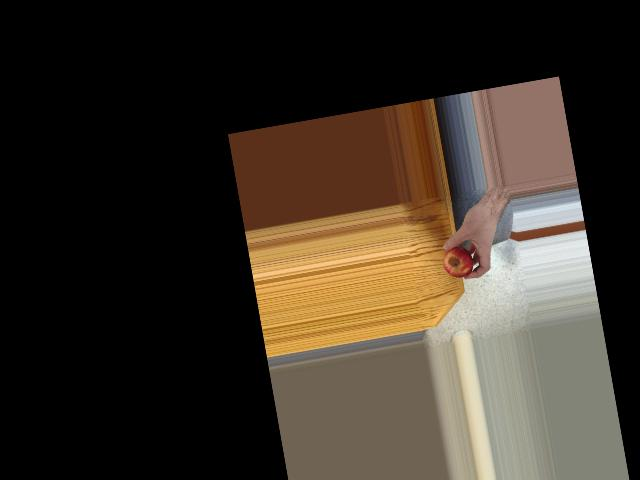apple: (440, 239, 477, 281)
